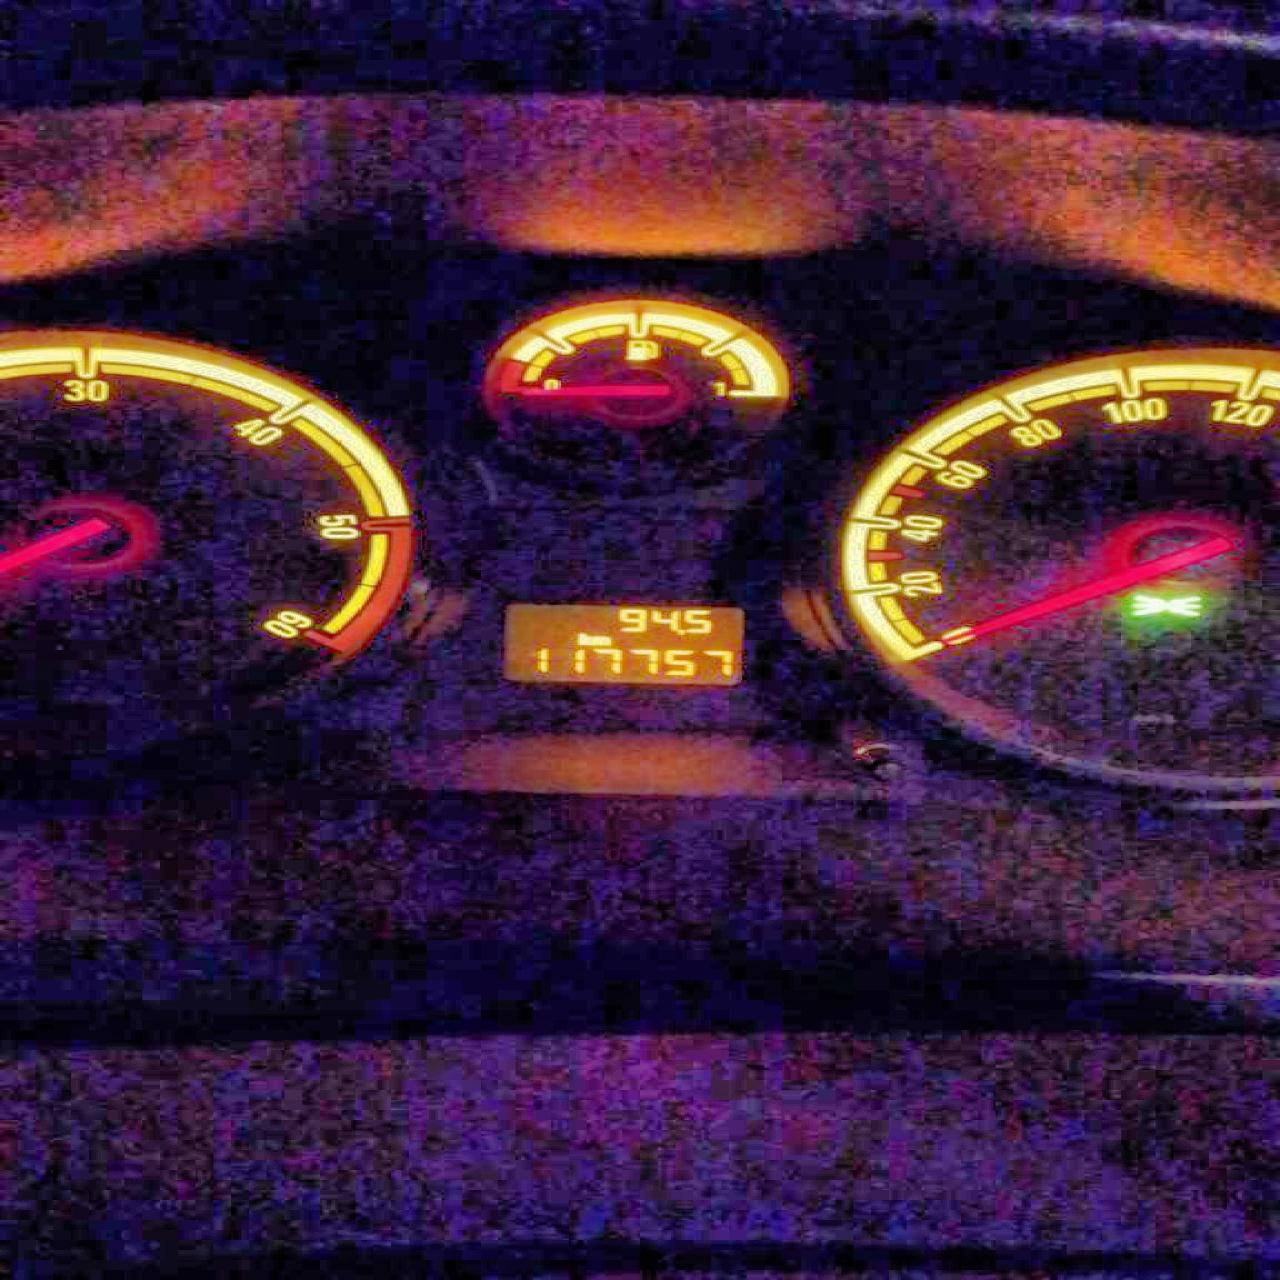-: (675, 627, 685, 635)
1: (533, 647, 549, 673), (571, 647, 585, 673)
4: (649, 608, 678, 632)
5: (662, 649, 696, 675), (680, 608, 712, 633)
7: (700, 648, 731, 676), (588, 647, 620, 673), (626, 647, 658, 673)
9: (615, 607, 647, 632)
X: (576, 631, 591, 645), (588, 635, 611, 645)
odometer: (496, 601, 744, 688)
